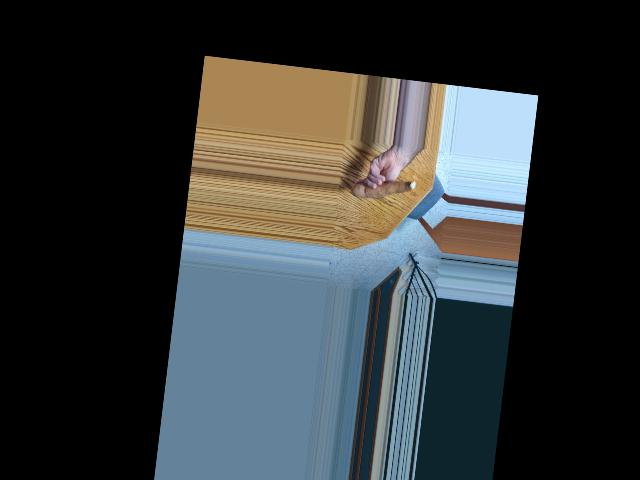sweet_potato: (353, 171, 413, 206)
